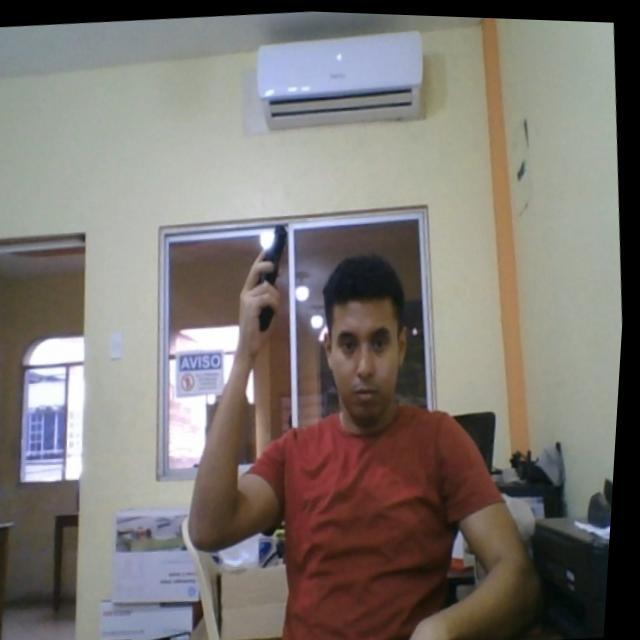weapon: (252, 219, 298, 330)
